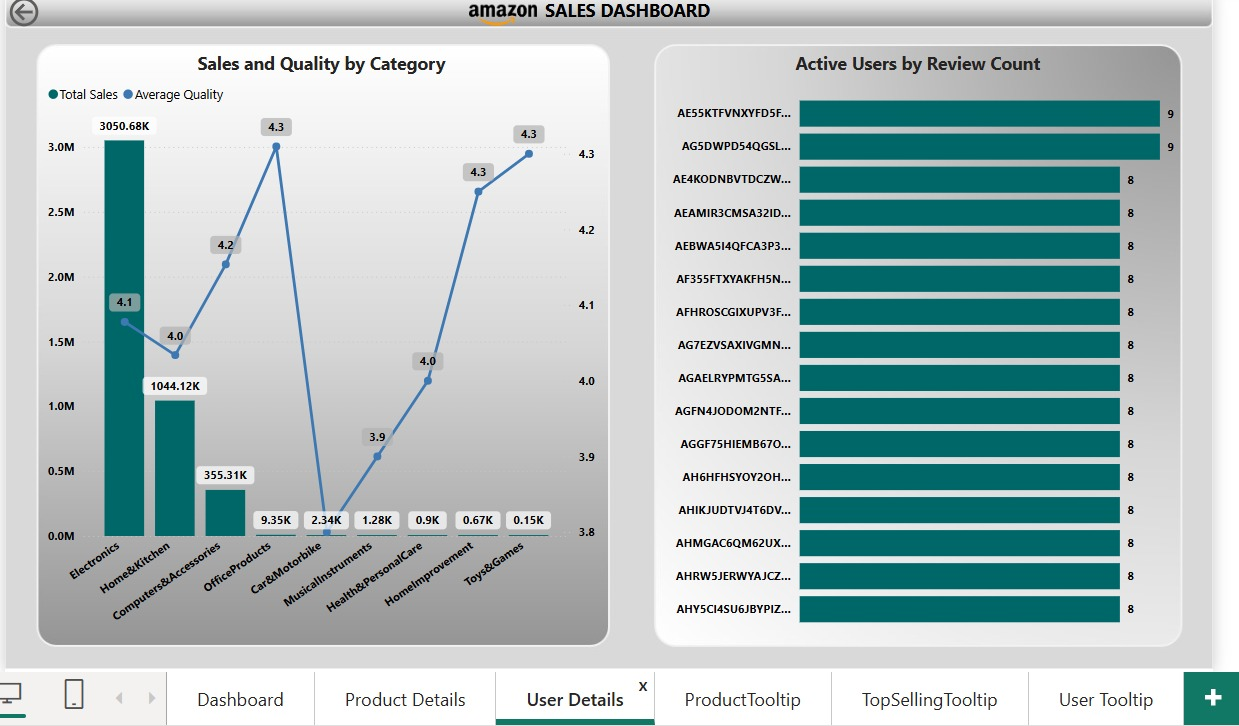

The dashboard page shown, as its layout file describes it:
{"tool":"powerbi","page":{"name":"User Details","canvas":[1280,720],"ordinal":2},"visuals":[{"type":"actionButton","box":[0,0,57.1,40.4],"z":0},{"type":"lineClusteredColumnComboChart","title":"Sales and  Quality by Category","fields":{"Category":["amazon.Category"],"Y2":["amazon.Average Quality"],"Y":["amazon.Total Sales"]},"box":[39.9,62.2,591.4,624.4],"z":1000},{"type":"textbox","box":[39.5,0,1240.7,40.4],"z":2000},{"type":"image","box":[487.3,6.1,82.5,34.2],"z":3000},{"type":"barChart","title":"Active Users by Review Count ","fields":{"Y":["amazon (2).review count"],"Category":["amazon (2).user_id"]},"box":[691,61.5,554.9,624.3],"z":4000}]}

Visuals, with their boxes on the page's 1280x720 design canvas (x1, y1, x2, y2). These are canvas units, not pixel positions in the 1239x726 screenshot, which may show the page scaled, cropped or inside an application window:
actionButton: BBox(0, 0, 57, 40)
"Sales and  Quality by Category" lineClusteredColumnComboChart: BBox(40, 62, 631, 687)
textbox: BBox(40, 0, 1280, 40)
image: BBox(487, 6, 570, 40)
"Active Users by Review Count " barChart: BBox(691, 62, 1246, 686)
